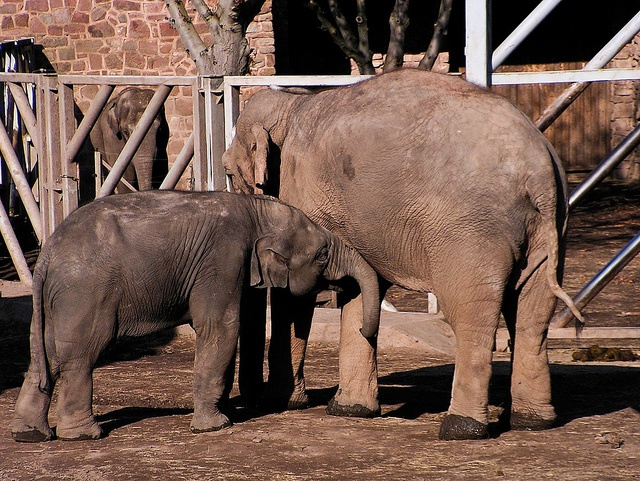elephant: (220, 69, 588, 441), (11, 188, 381, 440), (91, 89, 169, 194)
